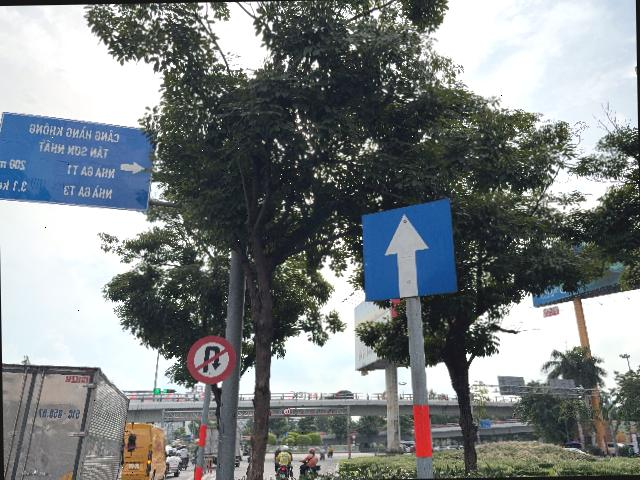cam-quay-dau-xe: (186, 334, 236, 385)
duong-mot-chieu: (362, 197, 459, 302)
